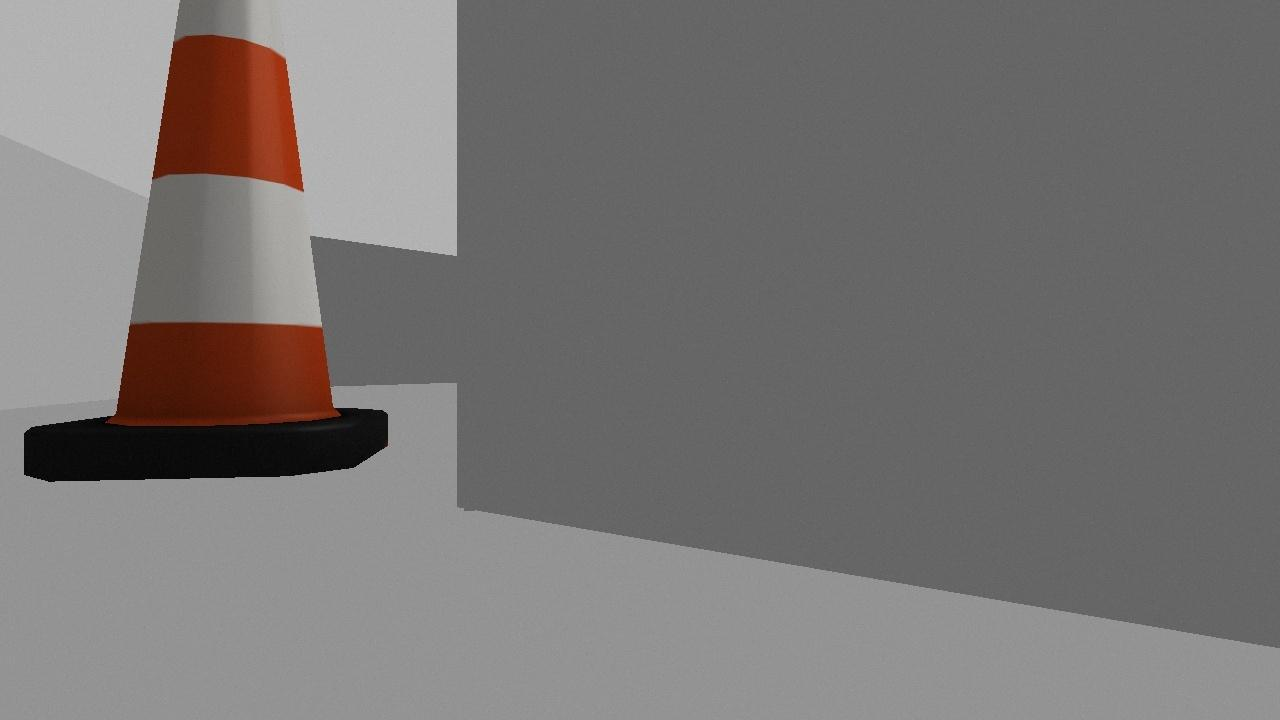cone_barrel: (24, 0, 391, 478)
